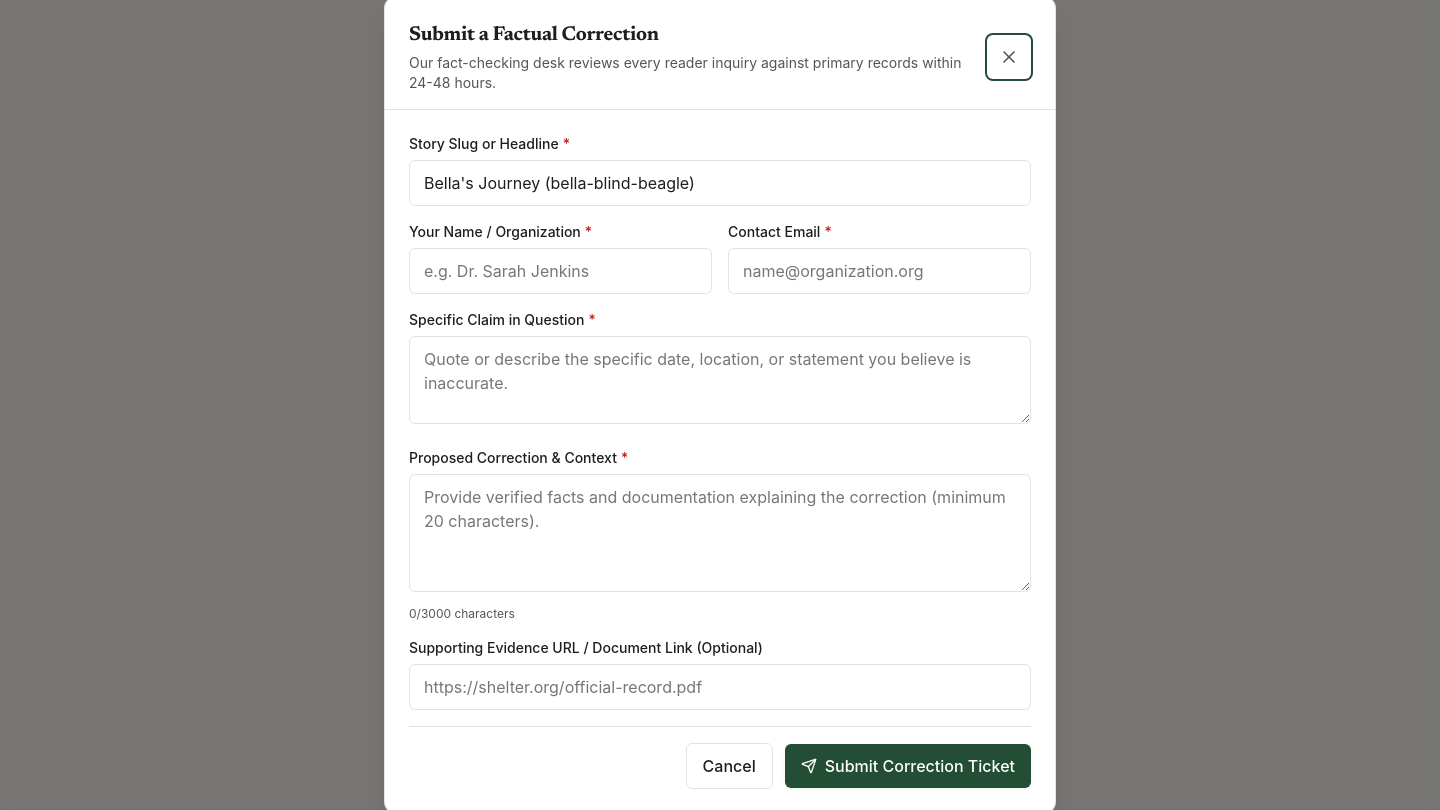
Trust & Fact-Checking UI Components (F09, F10) › CorrectionModal Component › submits valid form and displays ticket reference code
Type "Dr. Sarah Jenkins" into the field labelled "Your Name / Organization*".
click(560, 271); type("Dr. Sarah Jenkins")  # box x1=409 y1=248 x2=712 y2=294
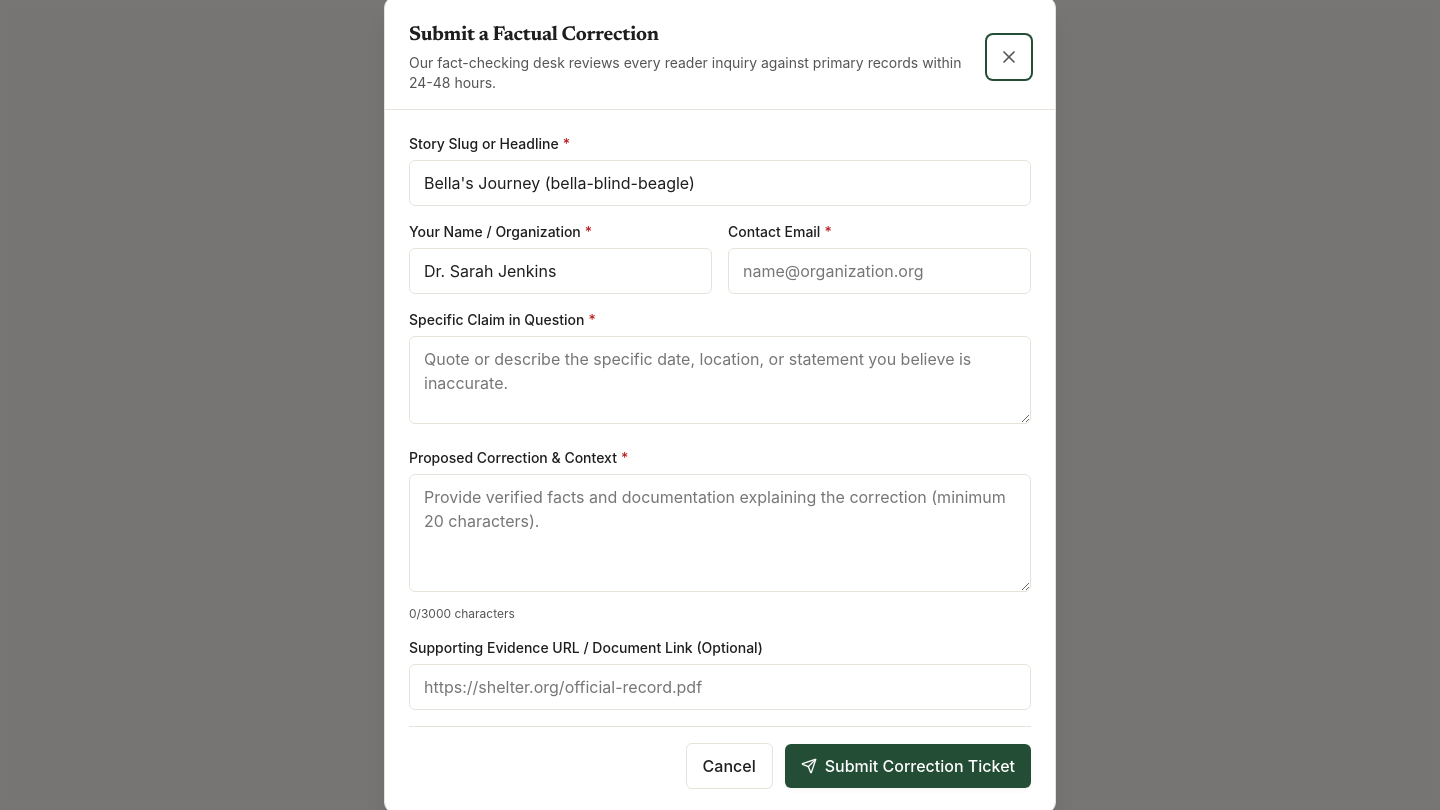
Type "sarah@vetclinic.org" into the field labelled "Contact Email*".
click(880, 271); type("sarah@vetclinic.org")  # box x1=728 y1=248 x2=1031 y2=294
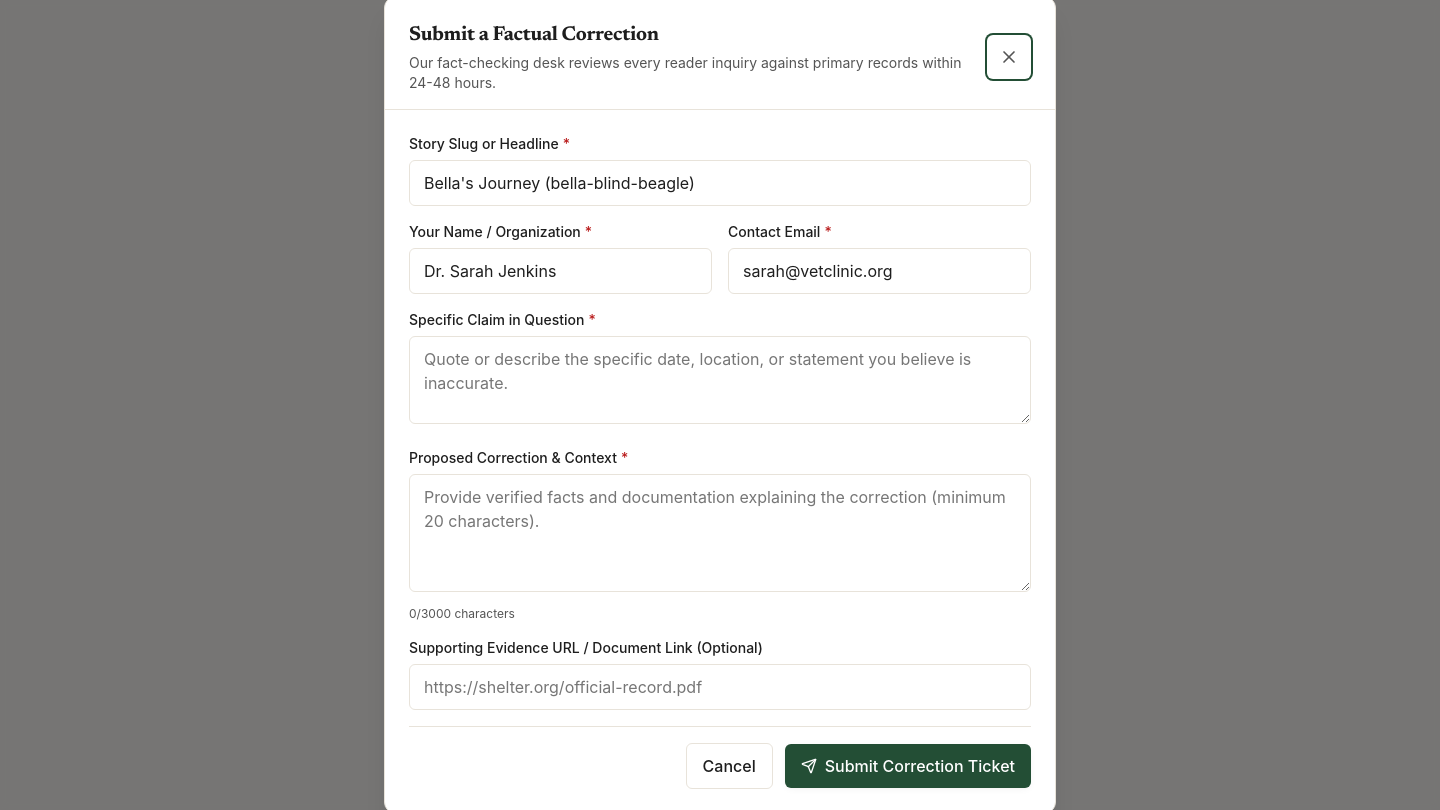
Replace the text in the text box labelled "Specific Claim in Question*" with "The rescue date was November 12th not 14th." at (720, 380), box x1=409 y1=336 x2=1031 y2=424
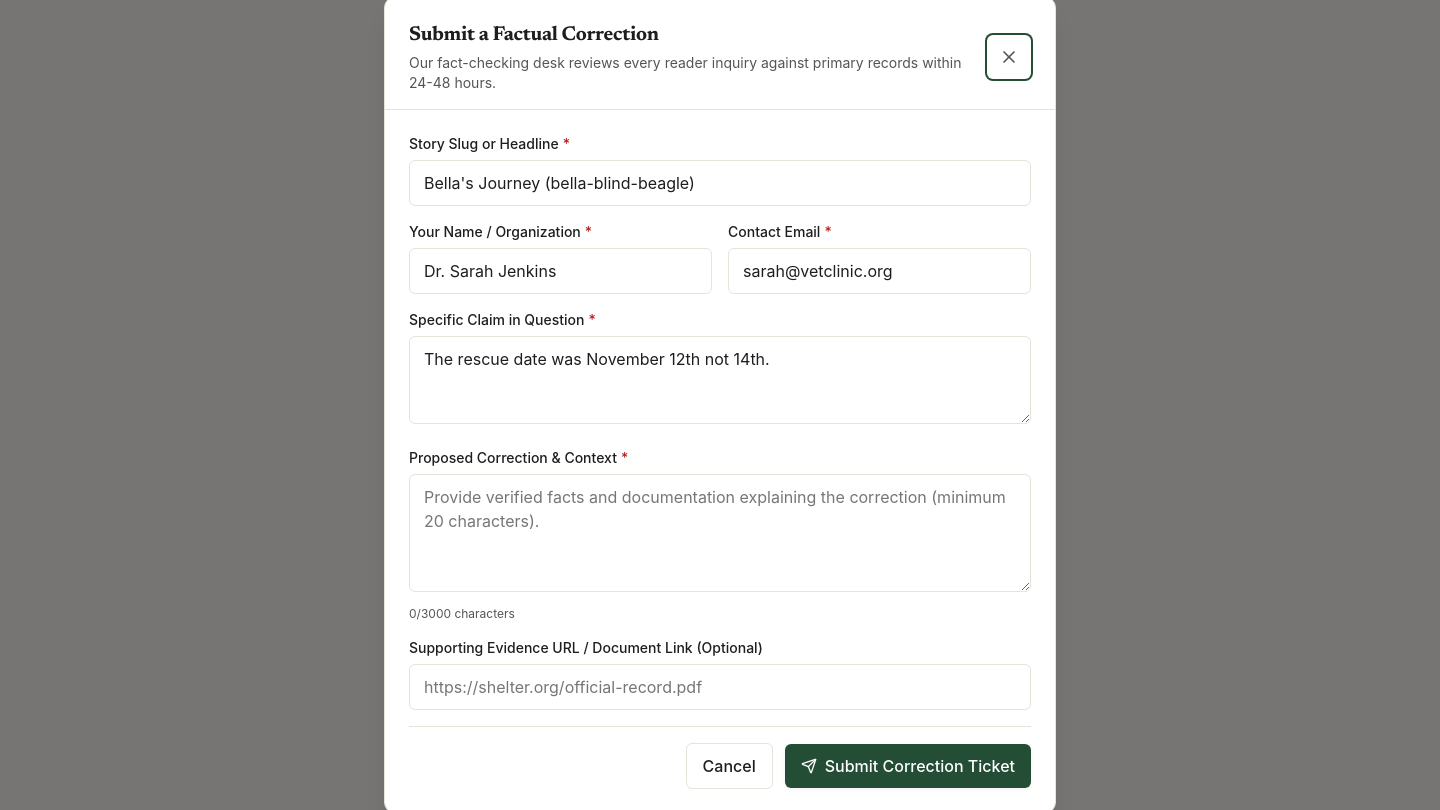
Replace the text in the text box labelled "Proposed Correction & Context*" with "Official clinical intake documentation confirms date of November 12th." at (720, 533), box x1=409 y1=474 x2=1031 y2=592
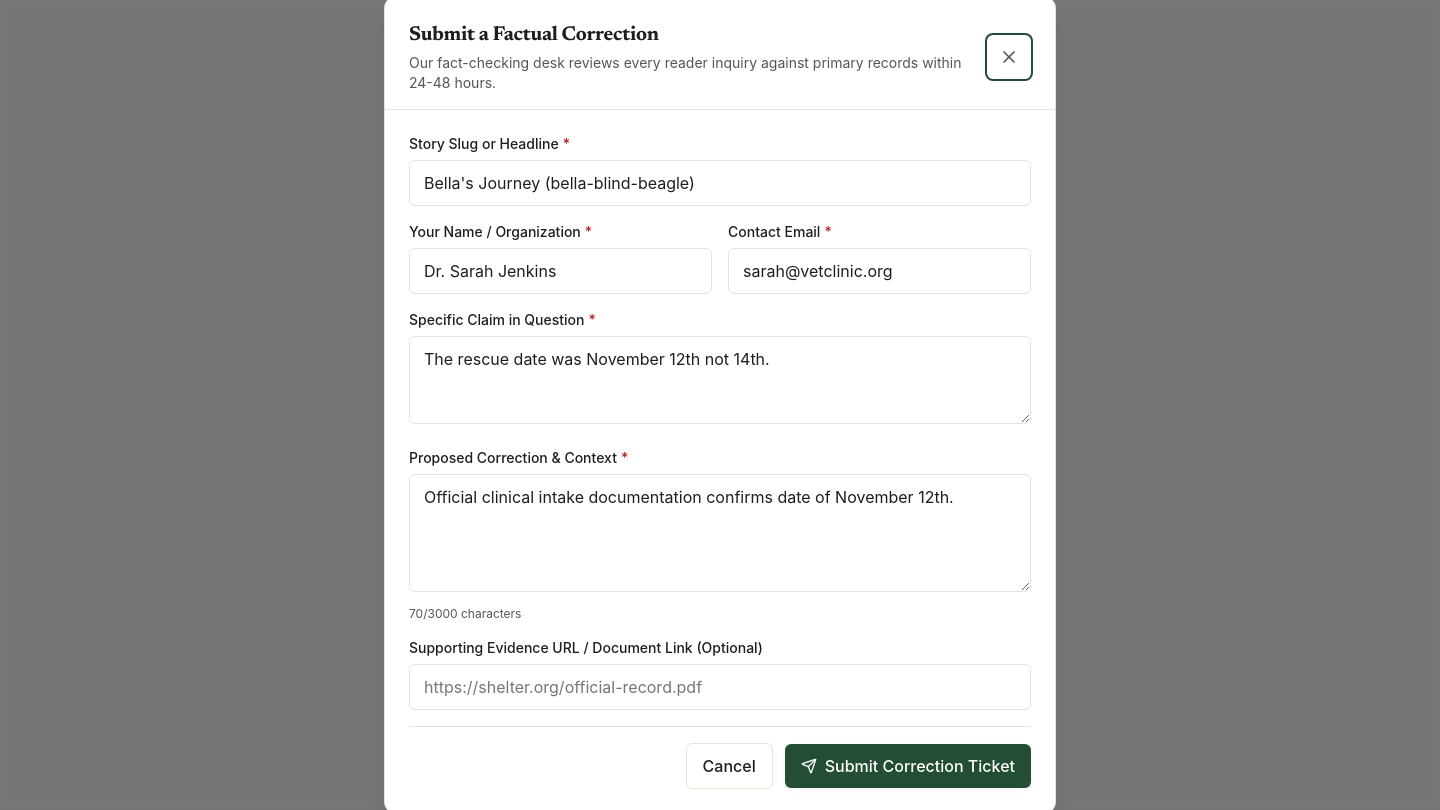
Click the button "Submit Correction Ticket".
click(908, 766)  # box x1=785 y1=744 x2=1031 y2=788
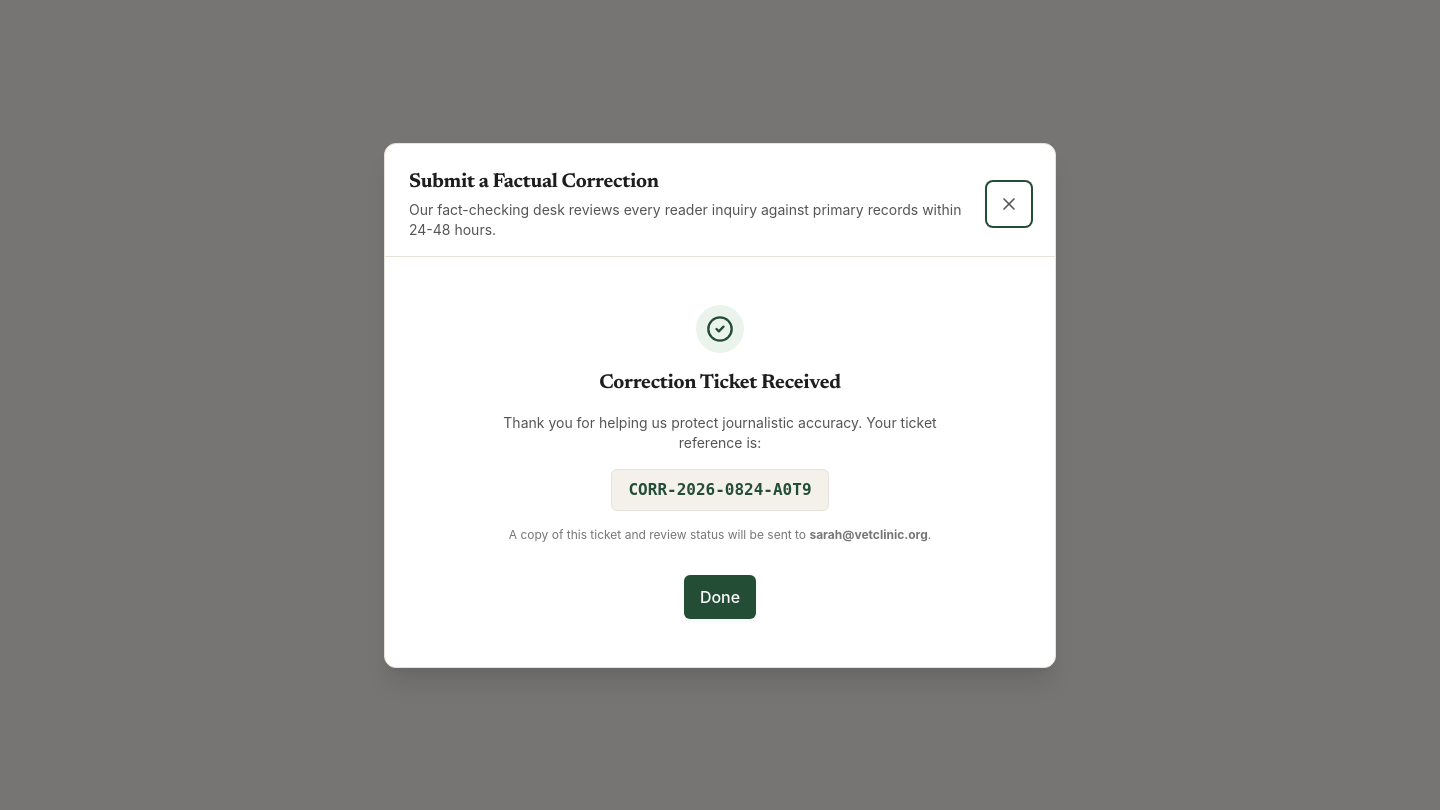
Check: the heading "Correction Ticket Received" is shown, box x1=599 y1=372 x2=841 y2=392
Check: the text "CORR-2026-0824-A0T9" is shown, box x1=612 y1=468 x2=828 y2=510
